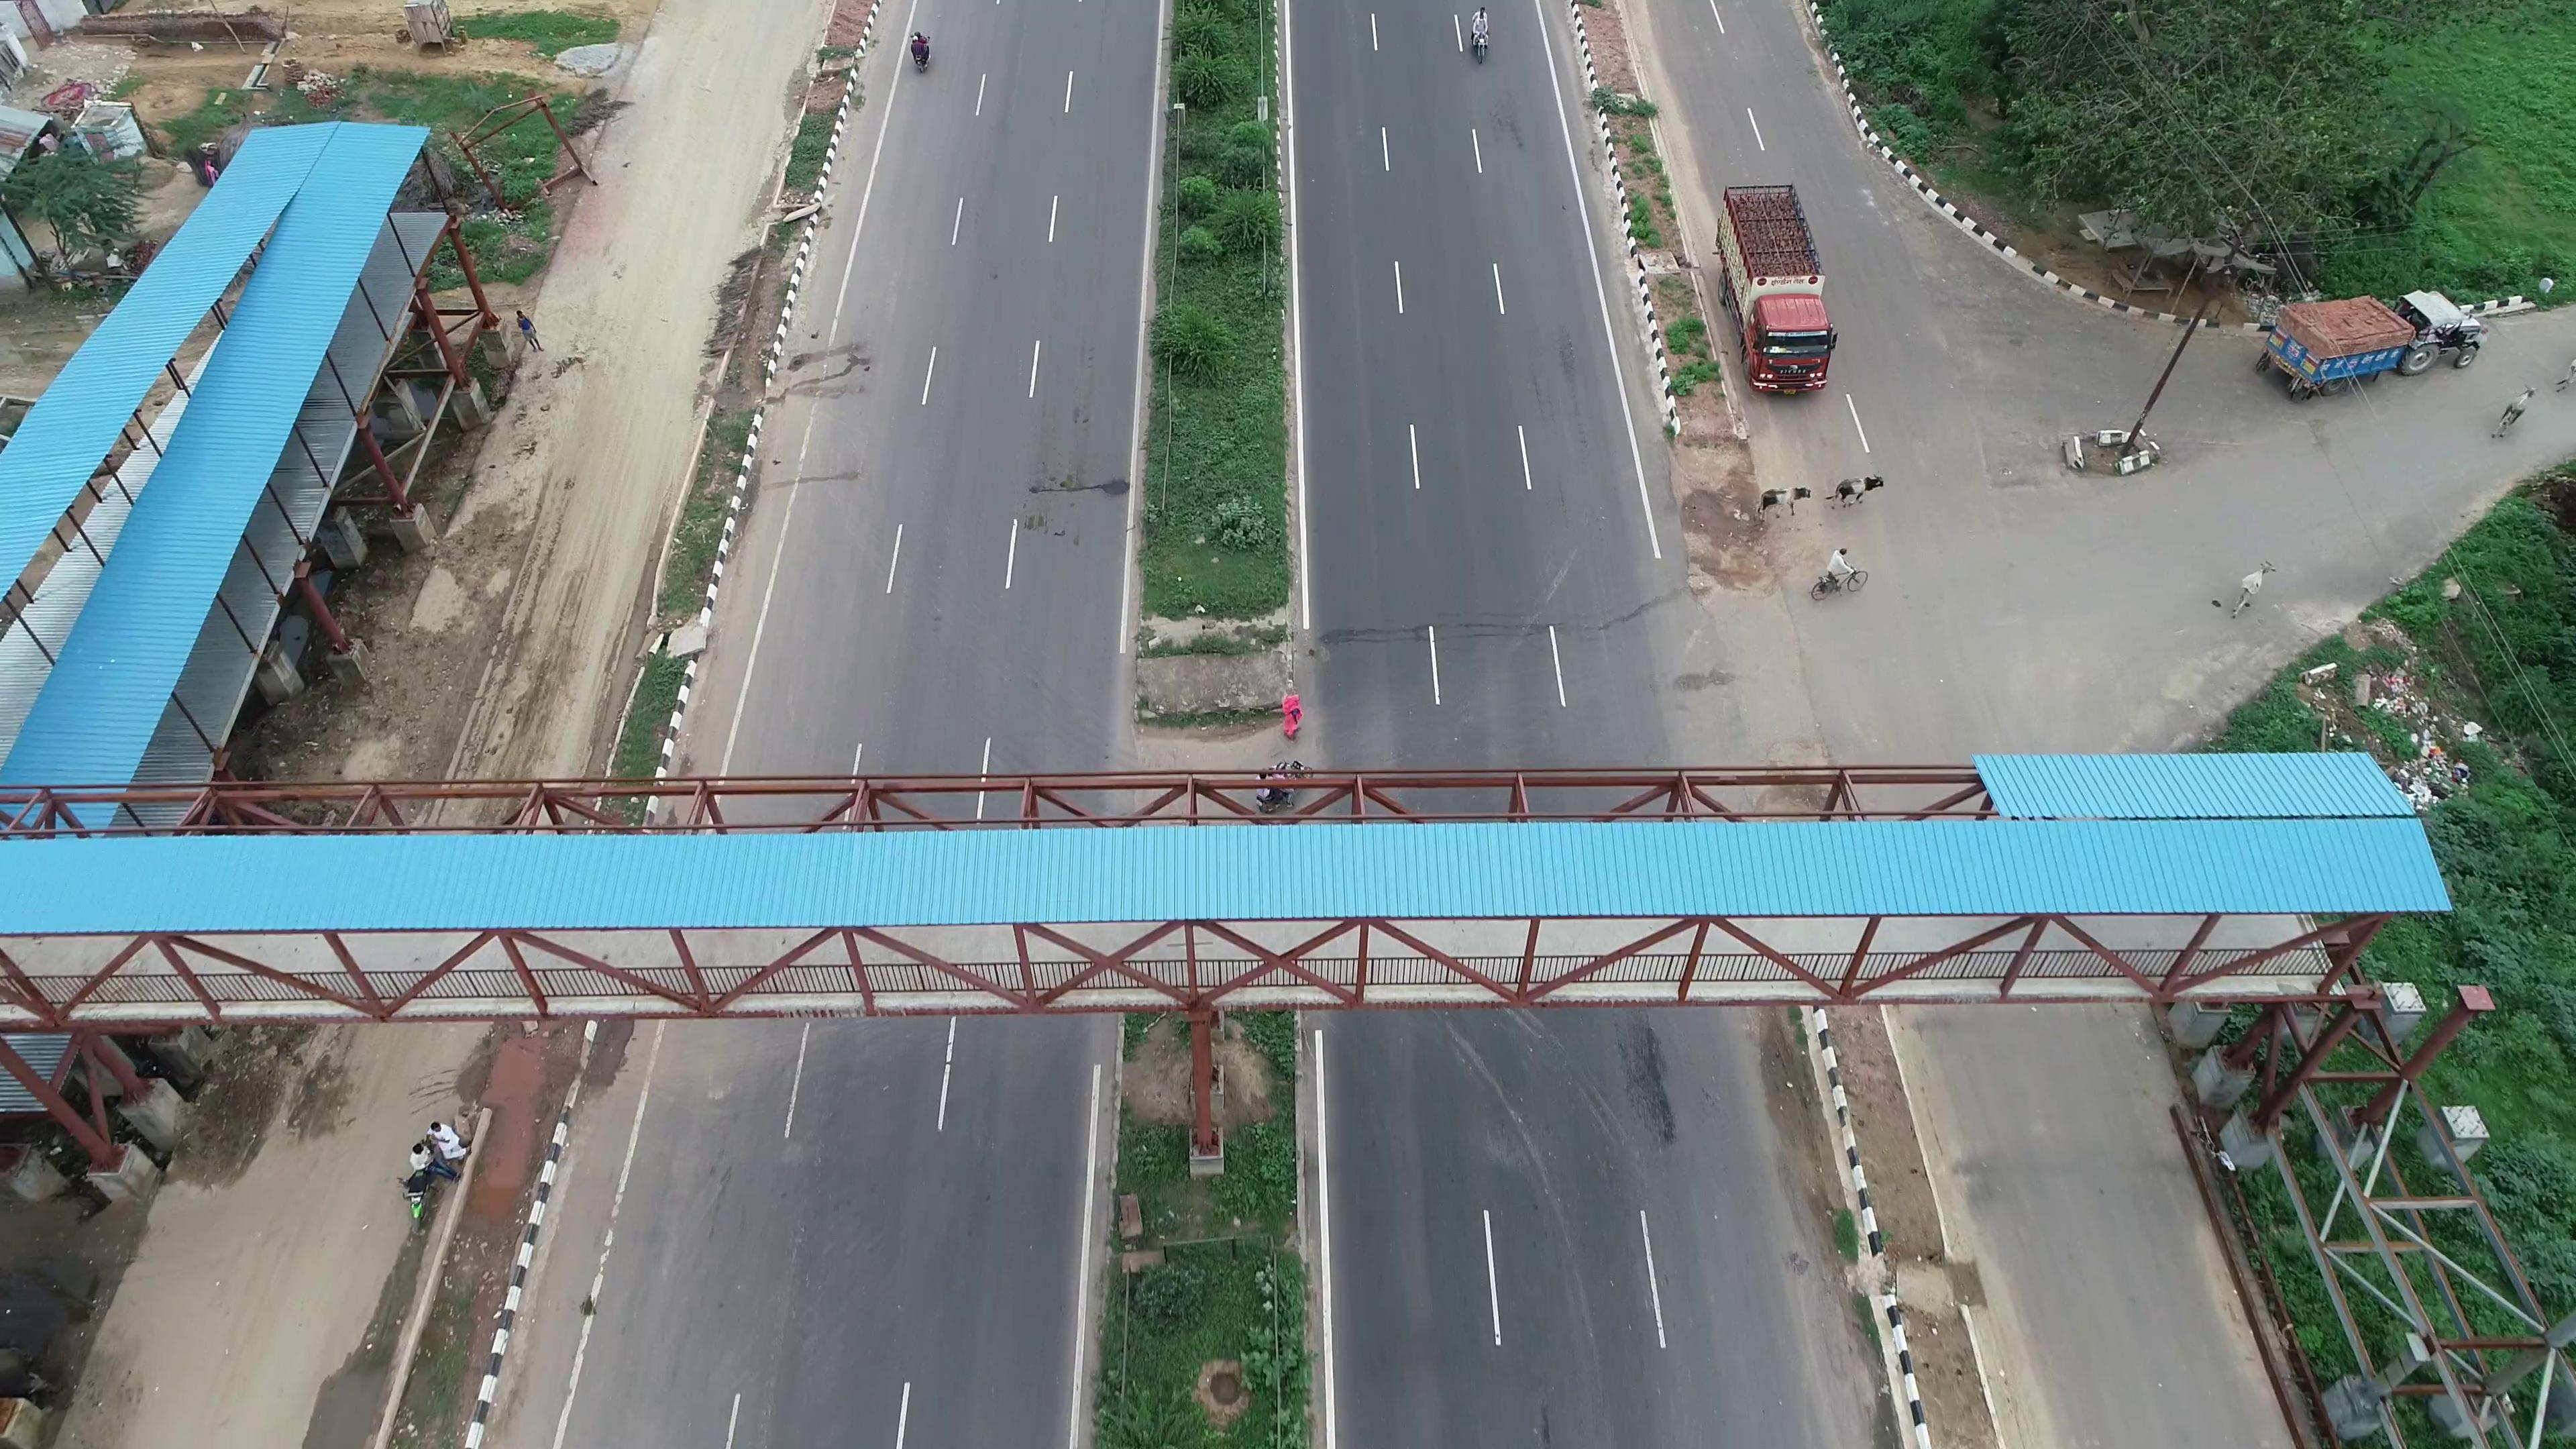Ravelling: (1617, 1030, 1674, 1150)
